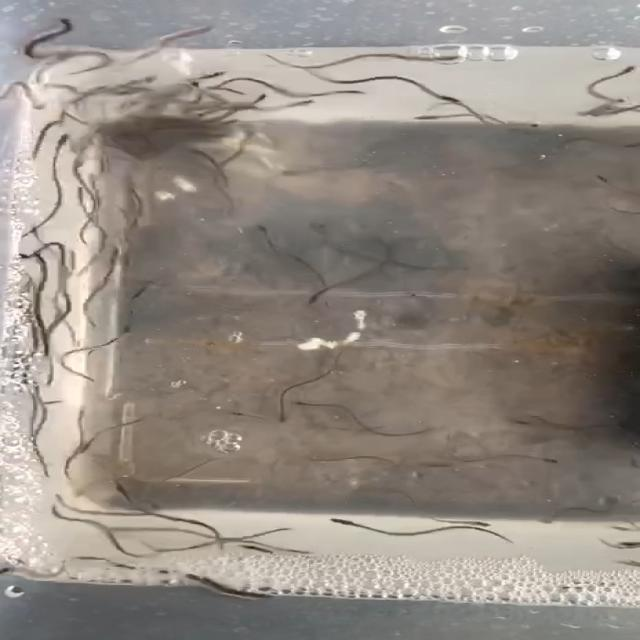inactive_glass_eel: (222, 584, 302, 614), (240, 210, 292, 246), (37, 9, 97, 35), (312, 514, 371, 538), (210, 403, 273, 425), (285, 393, 343, 416), (96, 476, 141, 503), (417, 109, 461, 135), (417, 86, 464, 110), (65, 183, 106, 210), (496, 411, 539, 435), (281, 285, 325, 308), (41, 130, 82, 154), (431, 51, 477, 72), (176, 74, 224, 94), (318, 83, 368, 102), (113, 179, 151, 204), (12, 97, 58, 117), (132, 283, 171, 306), (534, 452, 572, 475), (237, 89, 275, 110), (286, 95, 326, 113), (60, 157, 100, 175), (230, 537, 264, 558), (447, 517, 491, 532), (266, 402, 295, 424), (188, 66, 226, 80), (107, 320, 143, 334)
